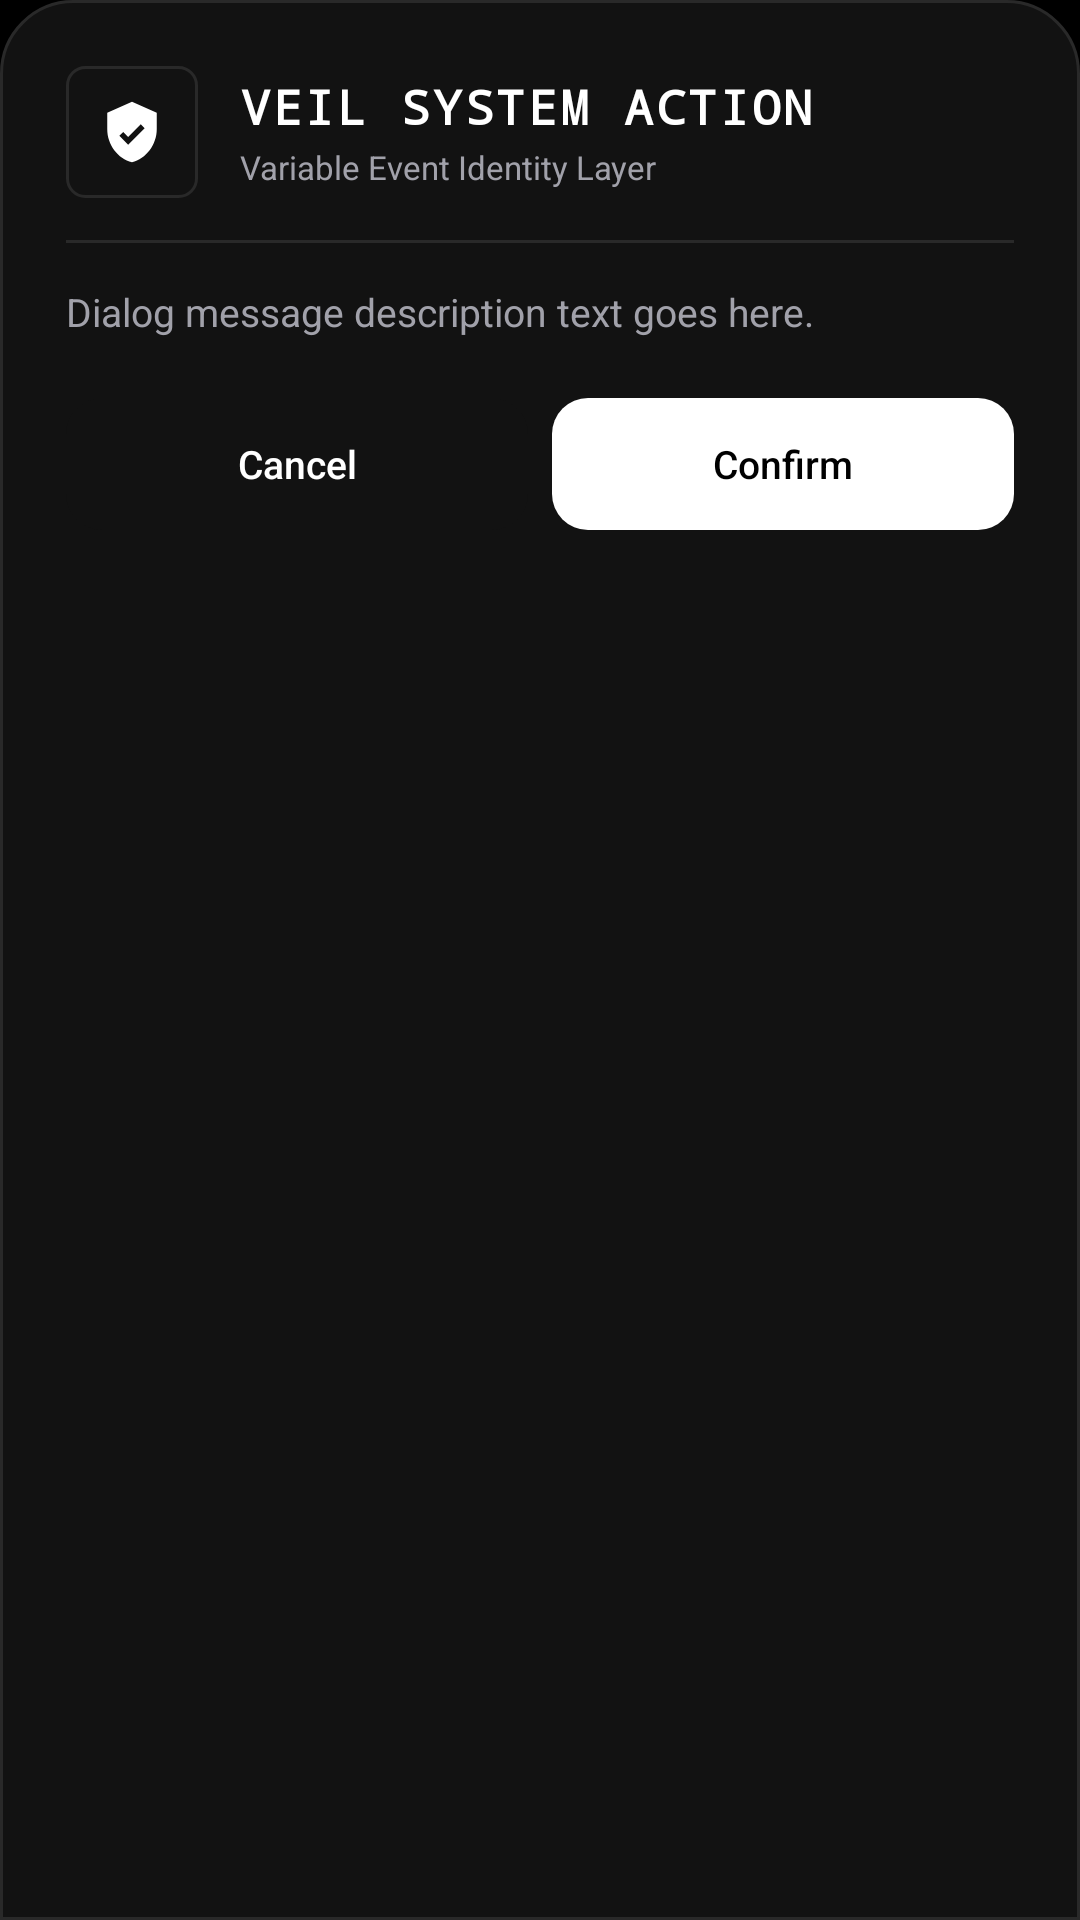

Screen size 1080 x 1920. Icon name, then its center in pixels as point (x, y):
shield status: point (132, 132)
